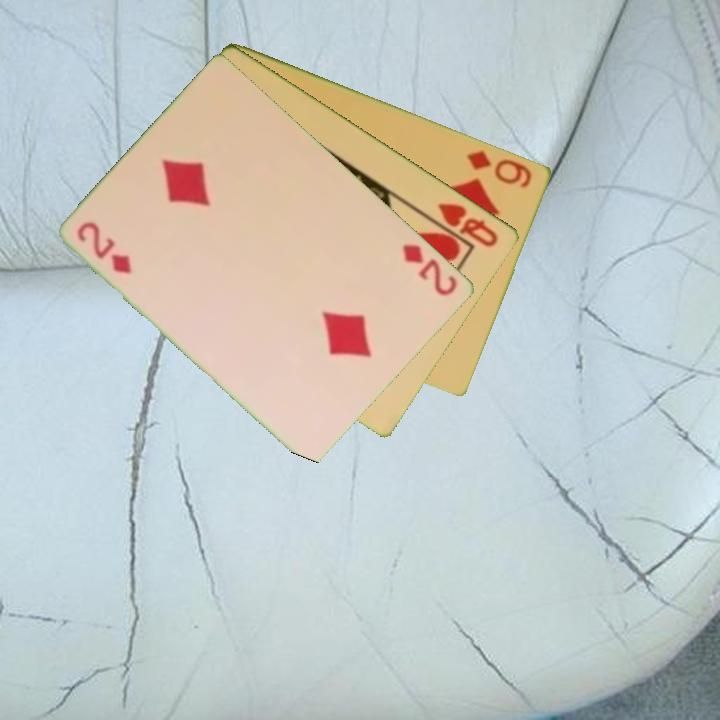2d: (399, 240, 461, 299), (74, 218, 136, 277)
6d: (464, 146, 535, 191)
Qh: (434, 199, 502, 250)
